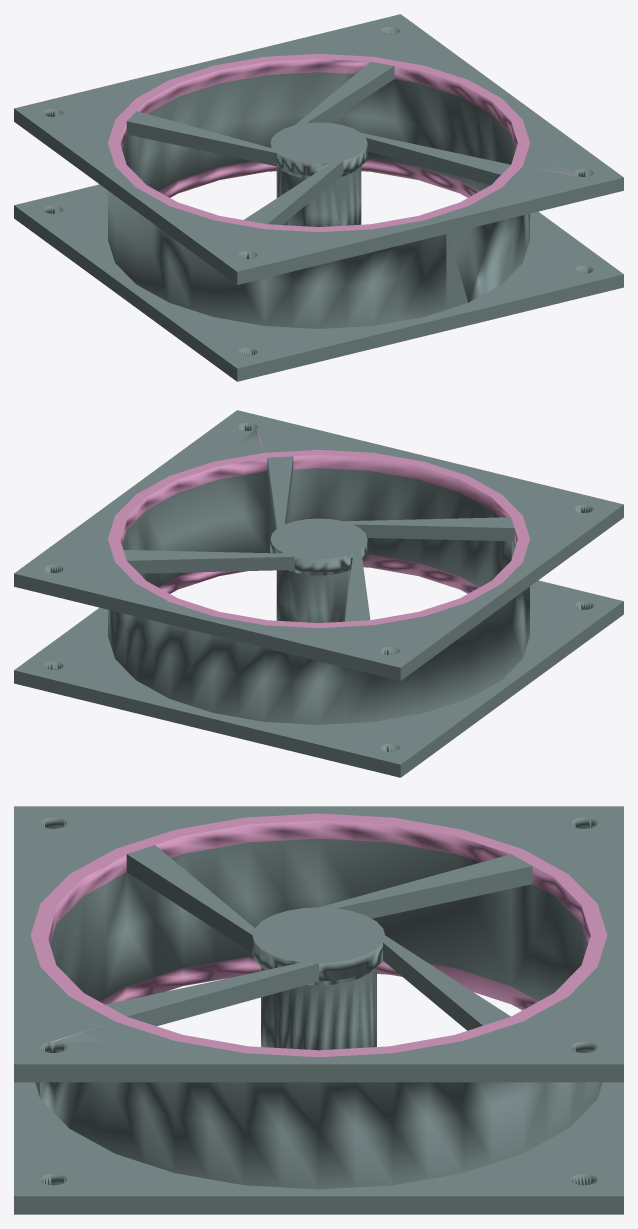
Rendered from fan cage.fbx.
3 renders of one model, top to bottom at view 1: azimuth 30°, elevation 25°; view 2: azimuth 150°, elevation 25°; view 3: azimuth 270°, elevation 25°, orthographic. The views are drawn at different scales.
Parts seen in each view (by area): view 1: group_5.002; view 2: group_5.002; view 3: group_5.002.
Boxes of the visible parts, x1,y1,x2,y2 form: group_5.002: (14, 14, 623, 381); group_5.002: (14, 410, 623, 777); group_5.002: (14, 806, 623, 1214).
Size of the model in its own units: 1.4 by 0.3804 by 1.4.
